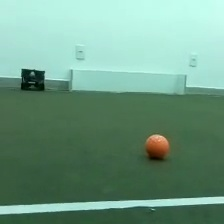ball: (141, 131, 173, 161)
goal: (67, 67, 189, 98)
robot: (19, 67, 47, 92)
